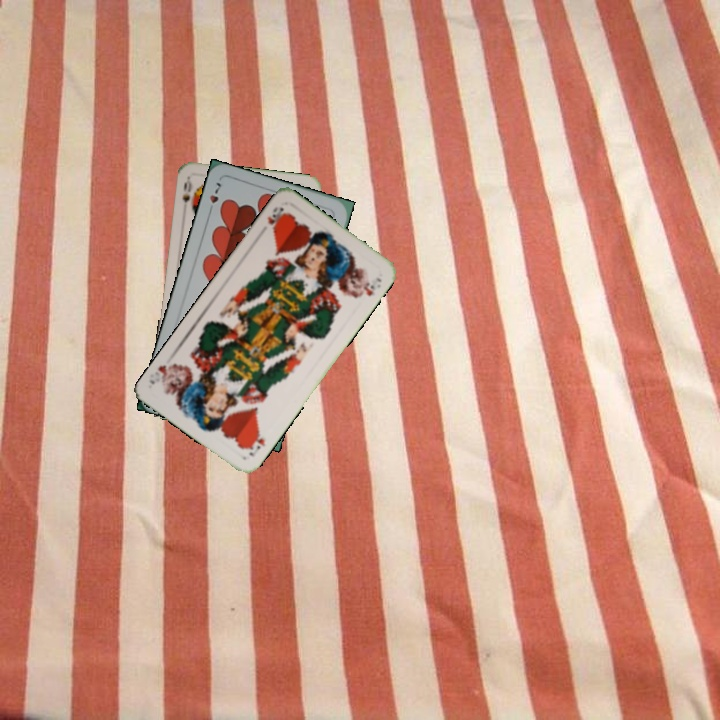H7: (205, 178, 224, 217)
HO: (263, 202, 288, 235), (243, 427, 268, 460)
SO: (179, 175, 194, 205)
